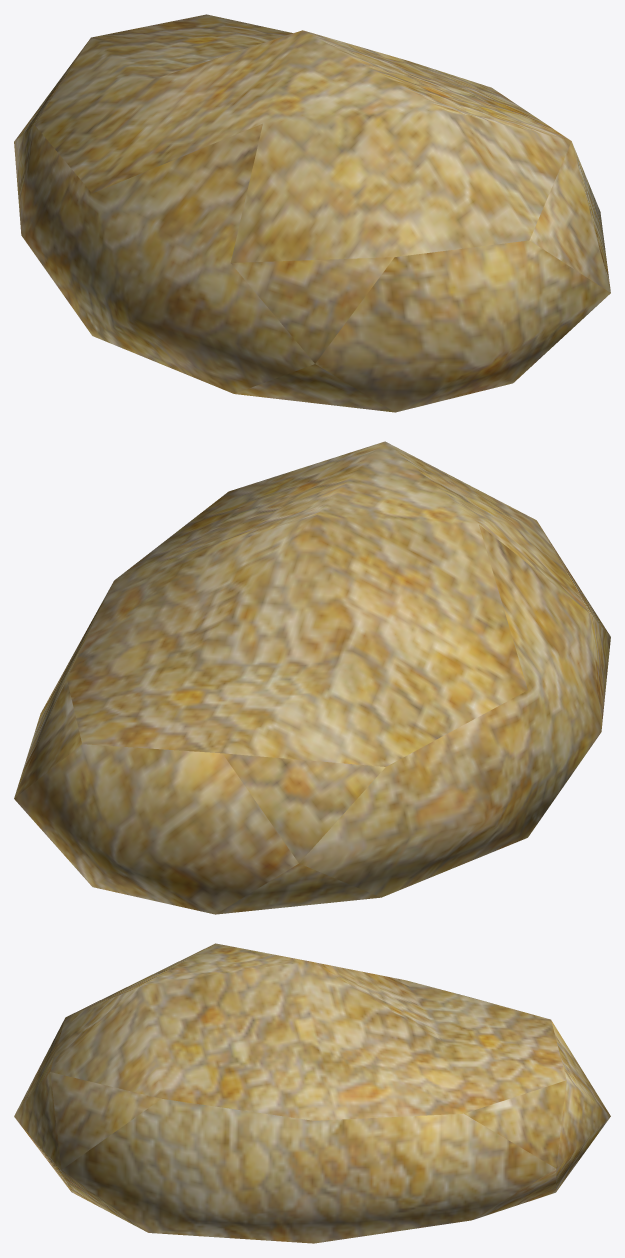
The model's file is RiverRock.FBX.
3 renders of one model, top to bottom at view 1: azimuth 30°, elevation 25°; view 2: azimuth 150°, elevation 25°; view 3: azimuth 270°, elevation 25°, orthographic. The views are drawn at different scales.
Parts seen in each view (by area): view 1: River Rock; view 2: River Rock; view 3: River Rock.
Part boxes in pixels (box(x1,y1,x2,y2)): River Rock: box(14, 14, 610, 412); River Rock: box(14, 441, 610, 914); River Rock: box(14, 943, 610, 1243).
Size of the model in its own units: 53.68 by 31.2 by 75.71.
